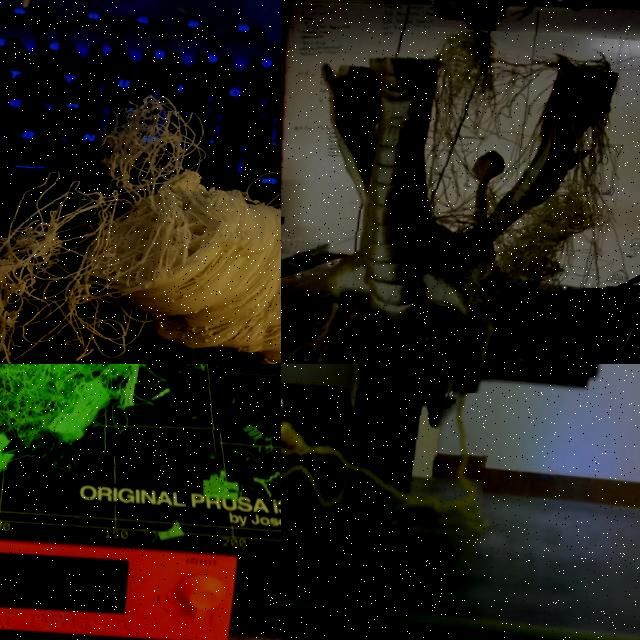spaghetti: (281, 16, 640, 364), (0, 96, 281, 364), (0, 364, 242, 474), (281, 397, 480, 524), (239, 412, 281, 456), (251, 472, 281, 506)
